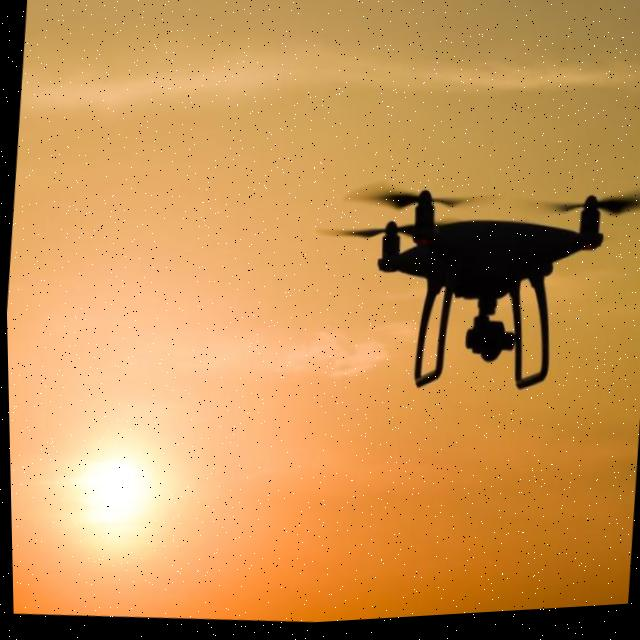drones: (282, 128, 640, 460)
